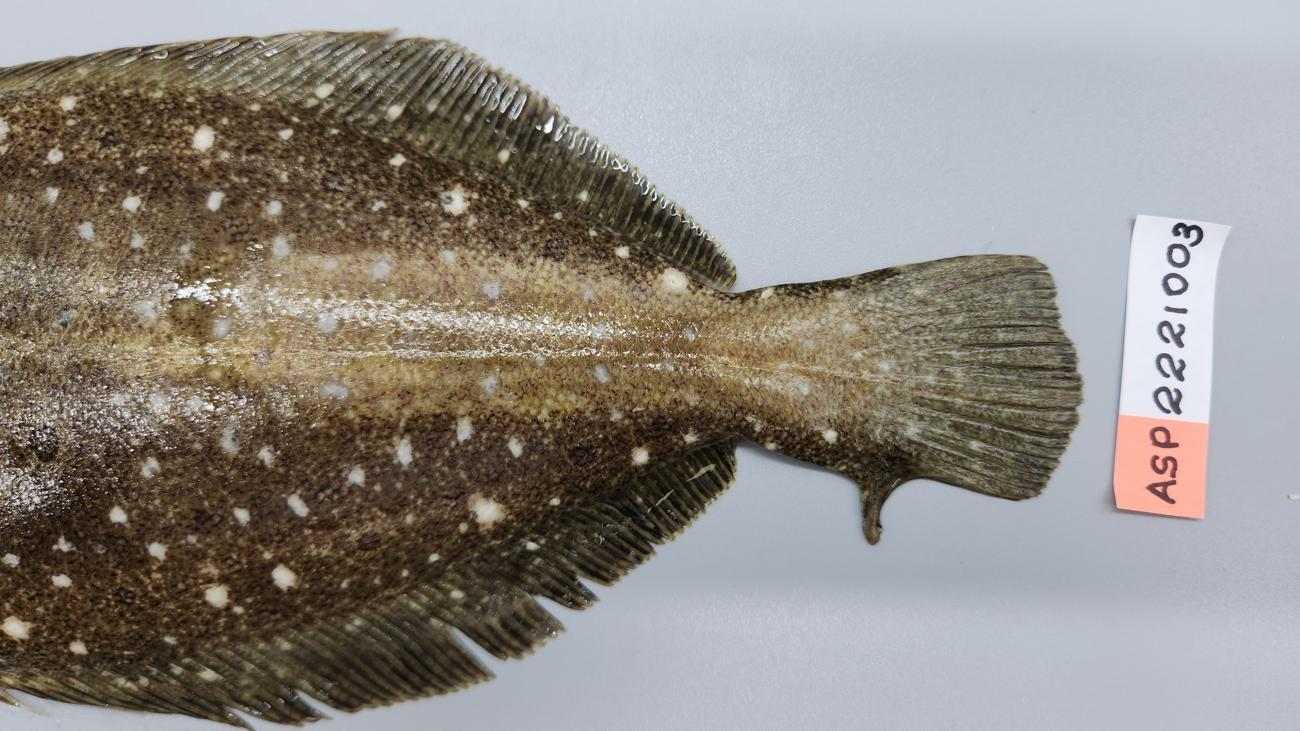SPDYH: (0, 425, 361, 671)
